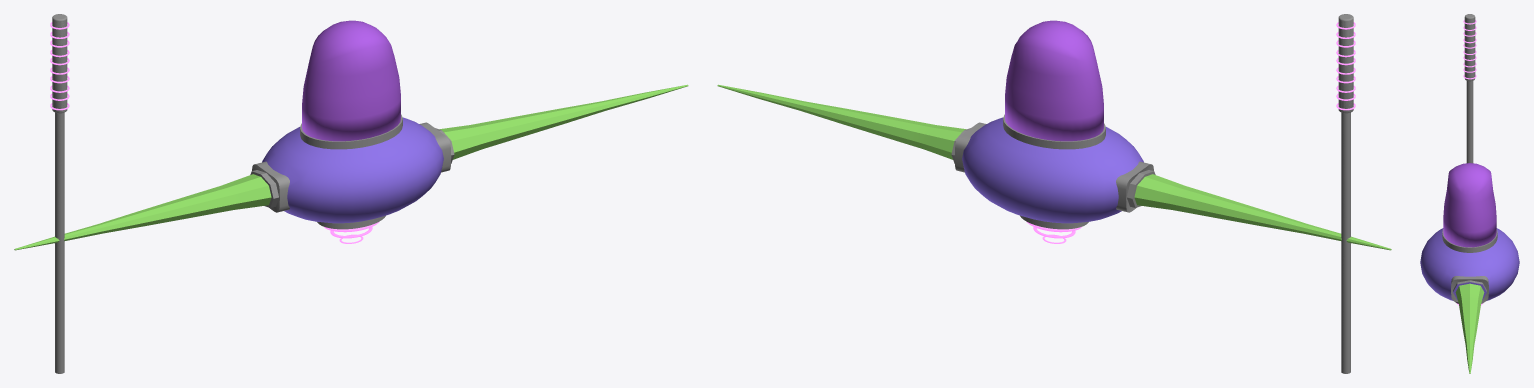
File: BaseEnemy 1.fbx
3 renders of one model, left to right at view 1: azimuth 30°, elevation 25°; view 2: azimuth 150°, elevation 25°; view 3: azimuth 270°, elevation 25°, orthographic. The views are drawn at different scales.
Parts seen in each view (by area): view 1: Sphere.010, Sphere.009, Sphere.011, Circle.009; view 2: Sphere.010, Sphere.009, Sphere.011, Circle.009; view 3: Sphere.010, Sphere.009, Circle.009, Circle.008, Sphere.011.
Part boxes in pixels (left/top/right/bottom): Sphere.010: left=14, top=84, right=688, bottom=250; Sphere.009: left=302, top=20, right=400, bottom=141; Sphere.011: left=50, top=14, right=376, bottom=373; Circle.009: left=53, top=14, right=67, bottom=373; Sphere.010: left=717, top=84, right=1391, bottom=250; Sphere.009: left=1005, top=20, right=1103, bottom=141; Sphere.011: left=1029, top=14, right=1355, bottom=373; Circle.009: left=1338, top=14, right=1352, bottom=373; Sphere.010: left=1420, top=228, right=1519, bottom=373; Sphere.009: left=1443, top=163, right=1496, bottom=247; Circle.009: left=1464, top=14, right=1475, bottom=163; Circle.008: left=1463, top=20, right=1476, bottom=79; Sphere.011: left=1458, top=14, right=1481, bottom=304.
Size of the model in its own units: 190 by 96 by 36.
